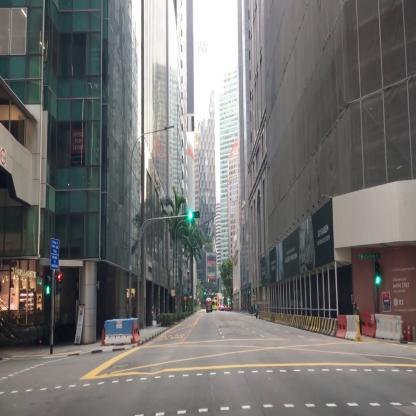green_traffic_light: (375, 263, 380, 283), (188, 212, 200, 218)
